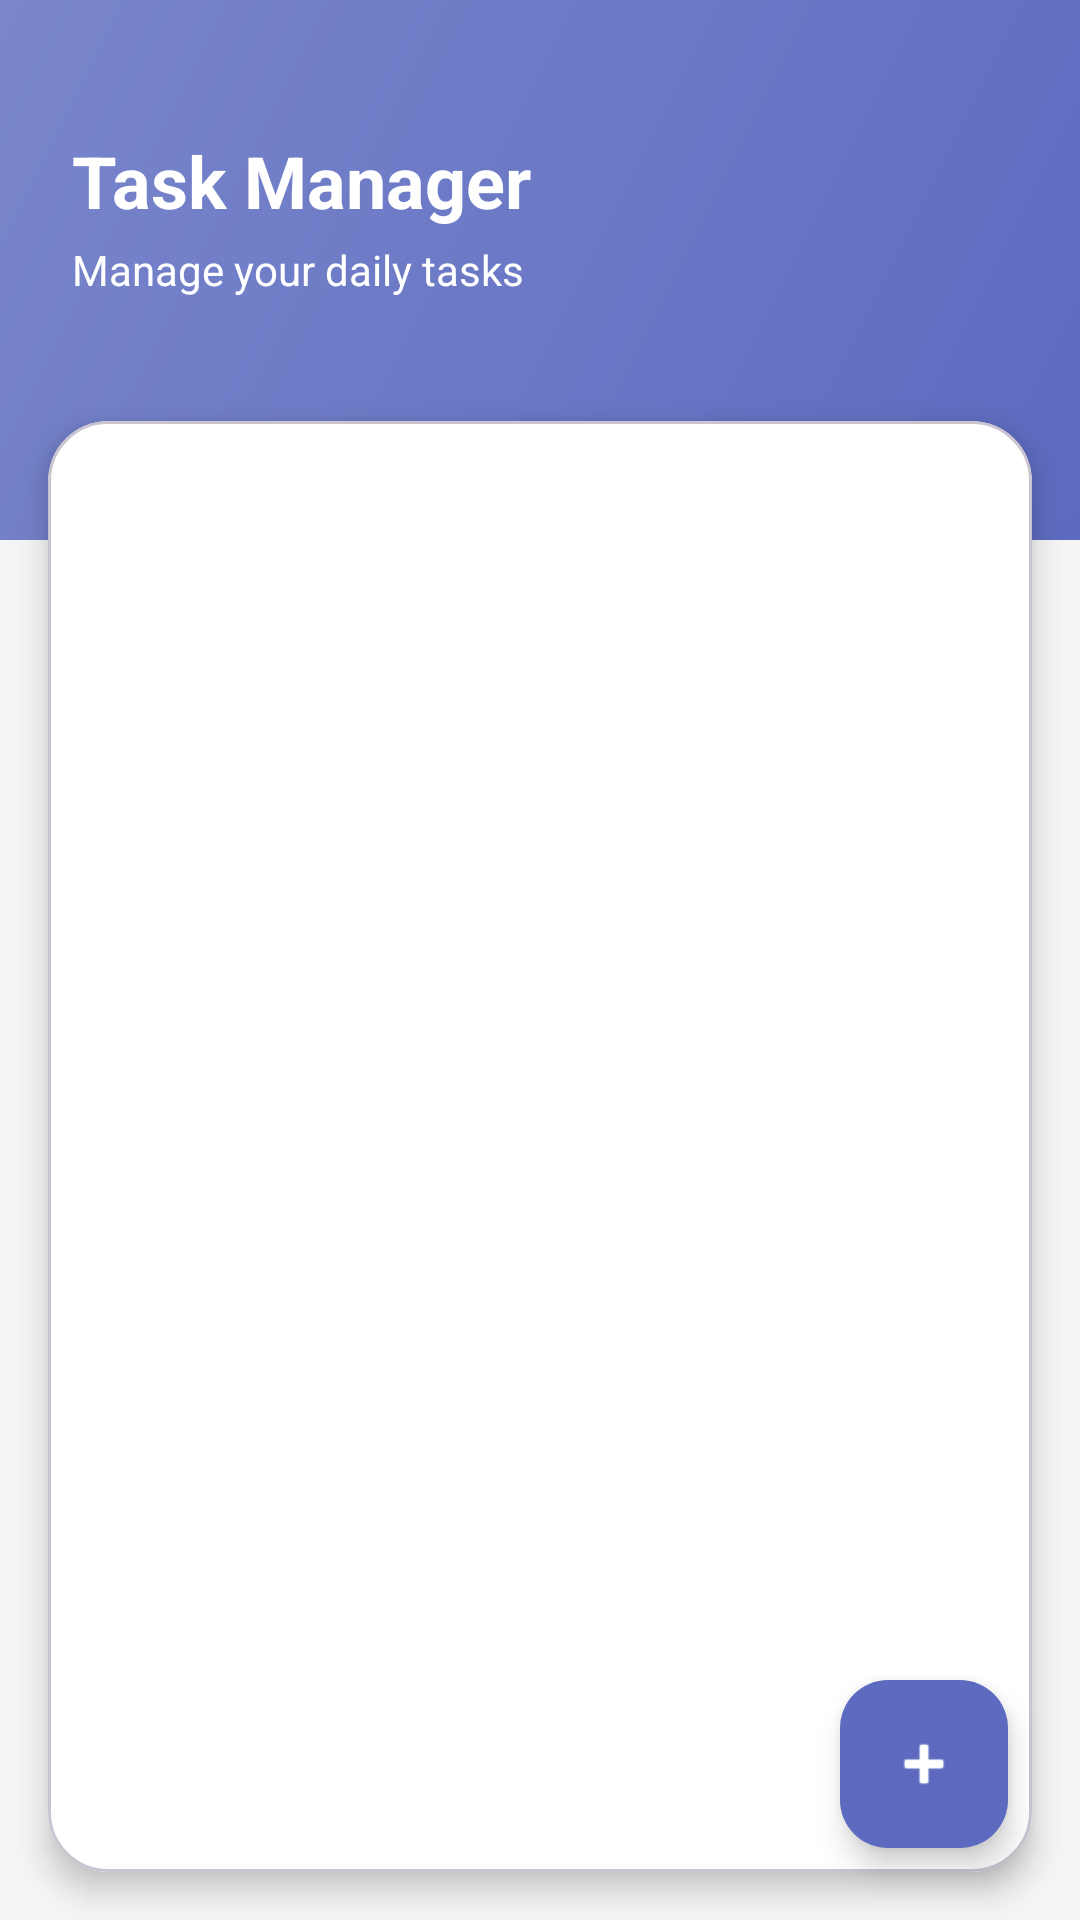

Where to tap for icons on this 1080x1920 app screen, as (x=x, y=y):
add: (x=924, y=1764)
